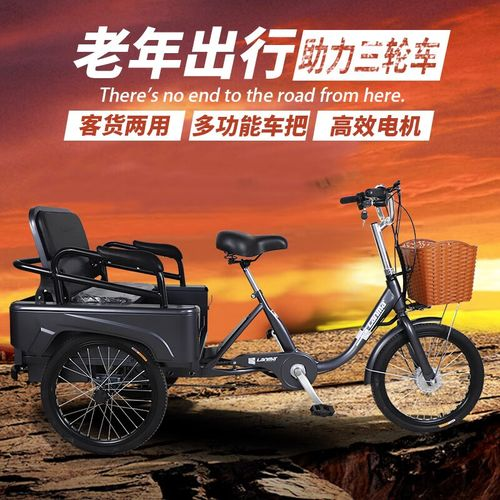empty: (9, 181, 486, 459)
